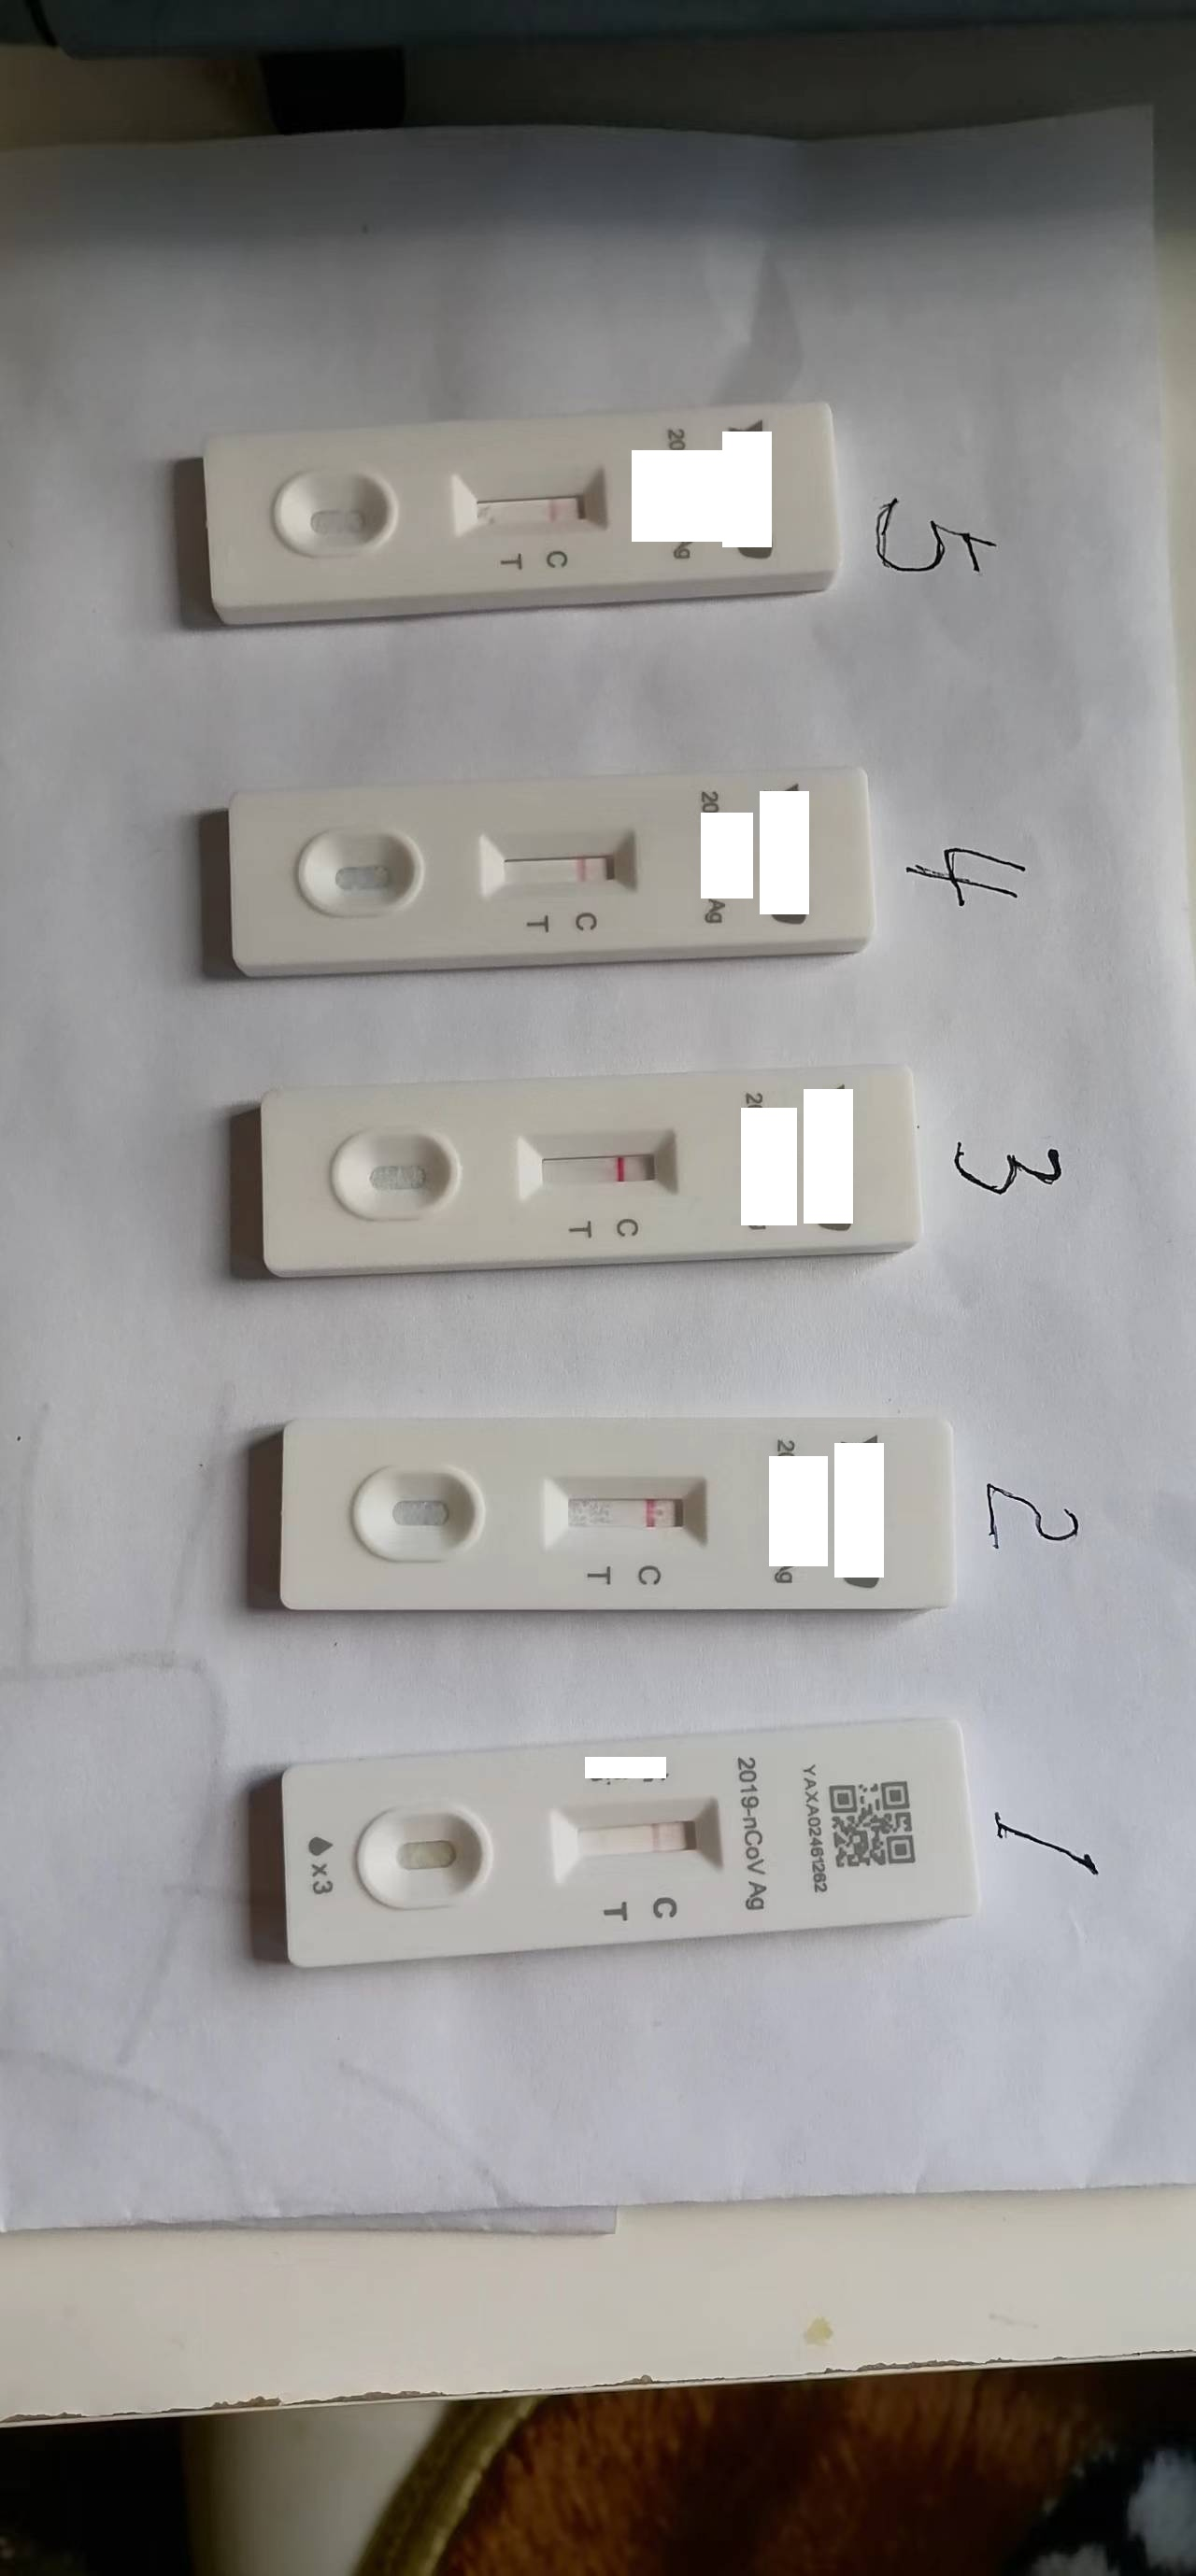negative: (467, 821, 642, 897), (532, 1475, 701, 1551), (513, 1129, 682, 1196), (557, 1812, 721, 1876), (445, 468, 601, 531)
